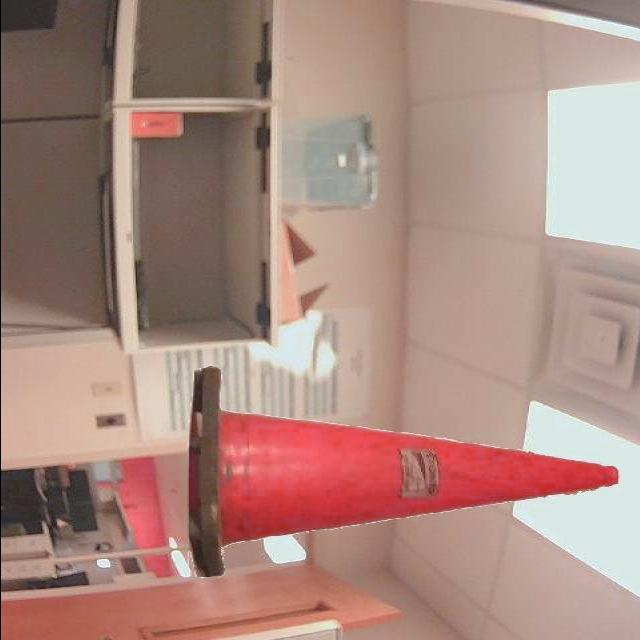traffic cone: (180, 354, 630, 585)
